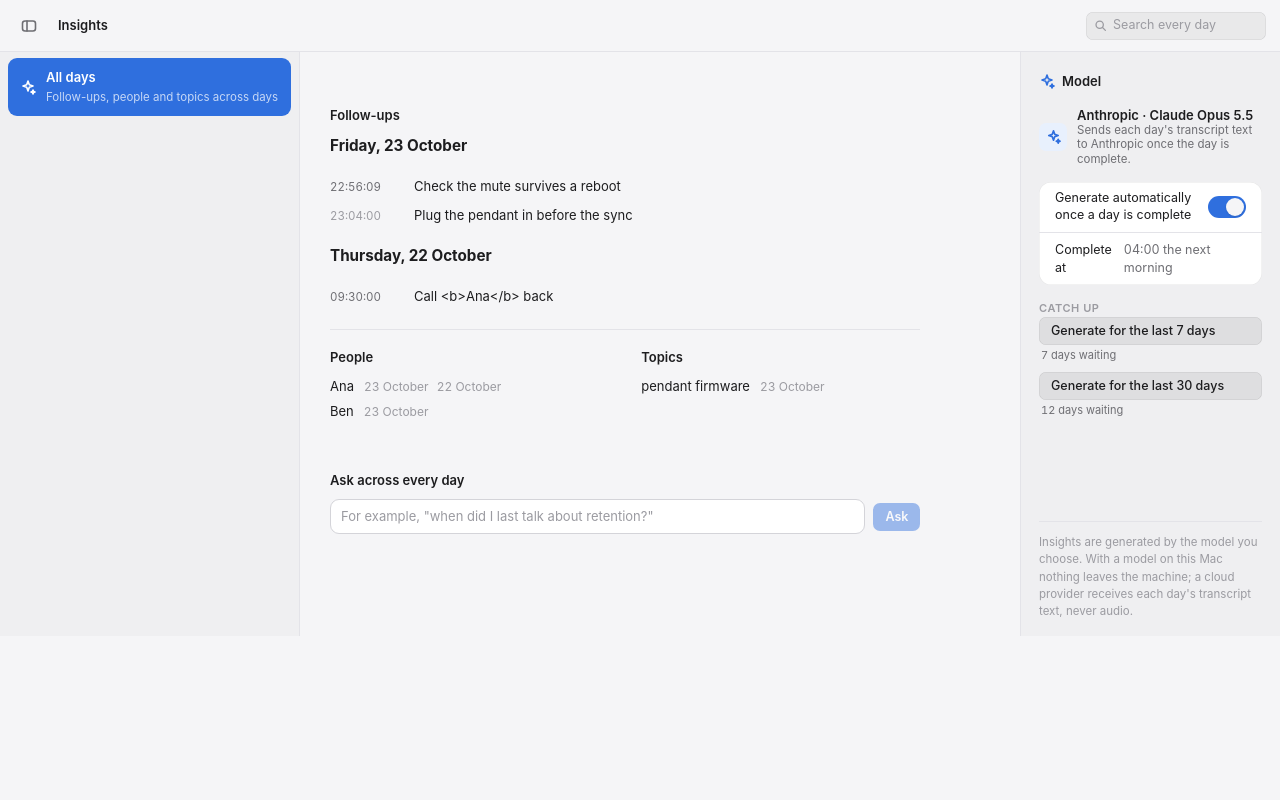
Scenario: Generate for the last 30 days shows the estimate first, with Confirm
Click the button "Generate for the last 30 days". click: coordinates (1150, 386)
box: x1=1039 y1=372 x2=1262 y2=400
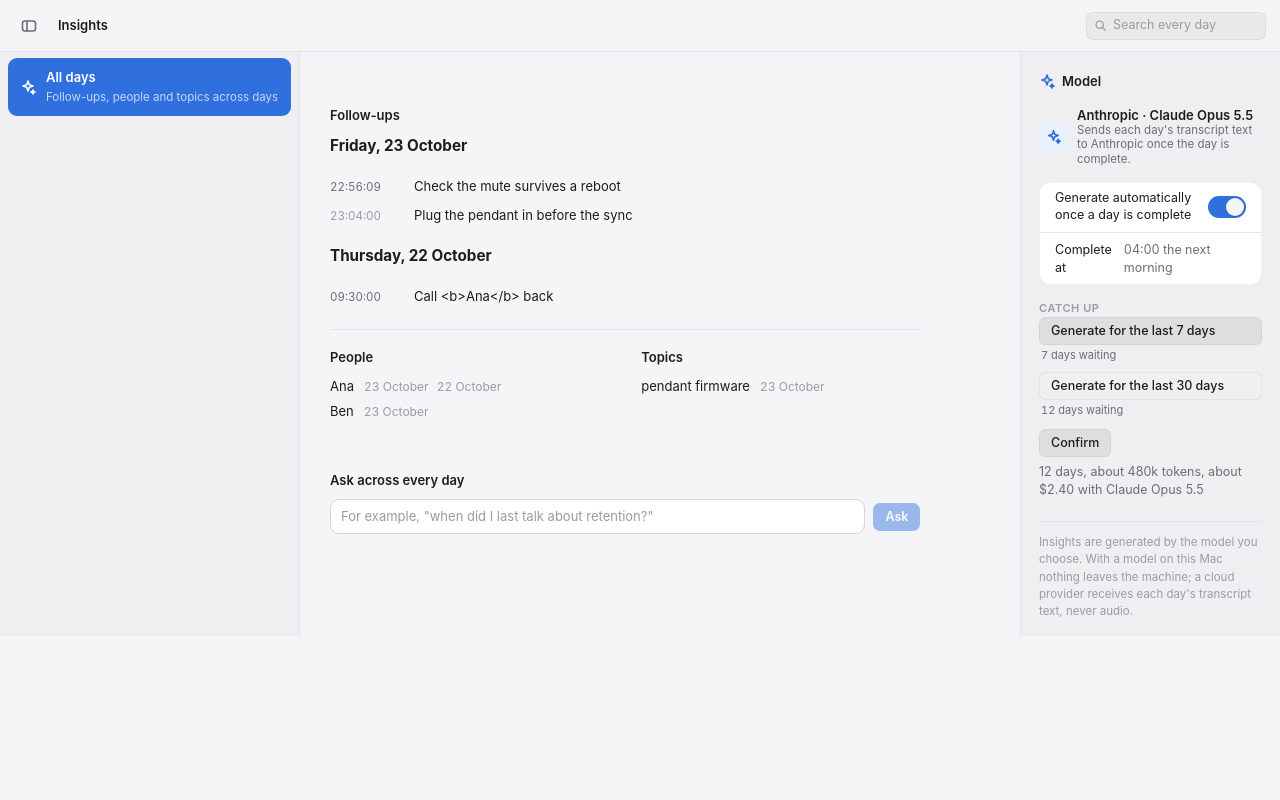
Now the text "12 days, about 480k tokens, about $2.40 with Claude Opus 5.5" is shown, box x1=1039 y1=463 x2=1262 y2=499
Now the button "Confirm" is shown, box x1=1039 y1=429 x2=1111 y2=457
Click the button "Generate for the last 7 days". click: coordinates (1150, 331)
box: x1=1039 y1=317 x2=1262 y2=345
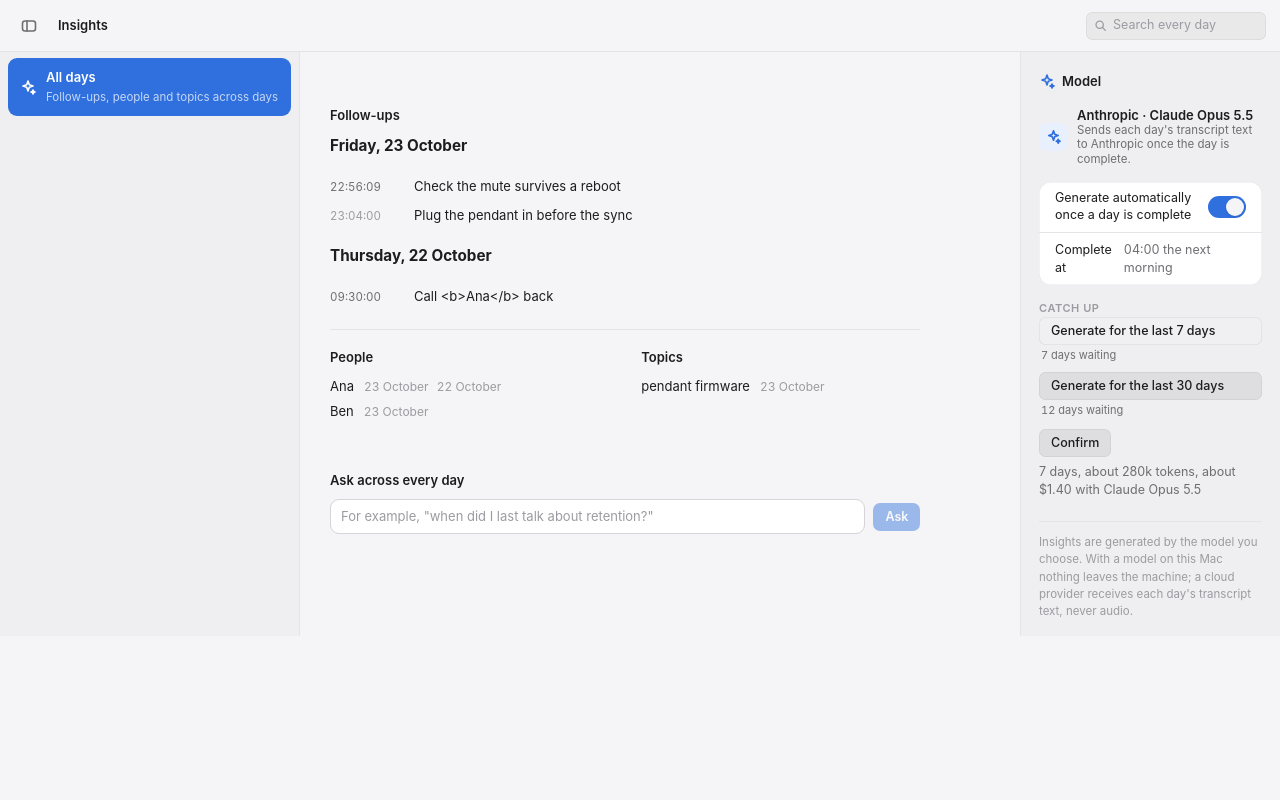
Now the text "7 days, about 280k tokens, about $1.40 with Claude Opus 5.5" is shown, box x1=1039 y1=463 x2=1262 y2=499
